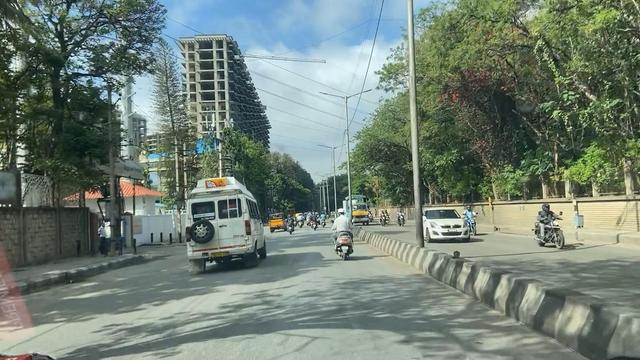HMV: (178, 174, 266, 269)
LMV: (327, 208, 363, 263)
